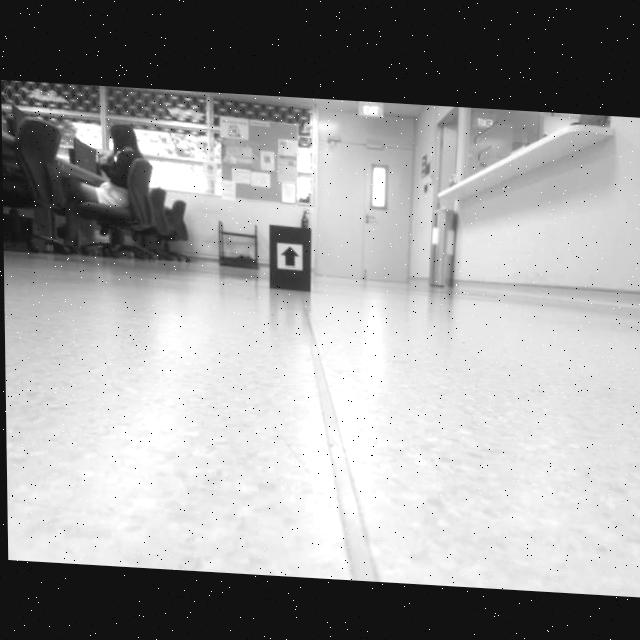UP: (279, 243, 300, 264)
